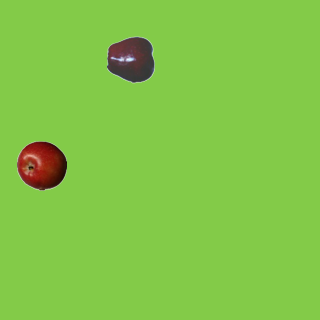Apple Braeburn: (16, 140, 66, 190)
Apple Red Delicious: (106, 34, 156, 84)
